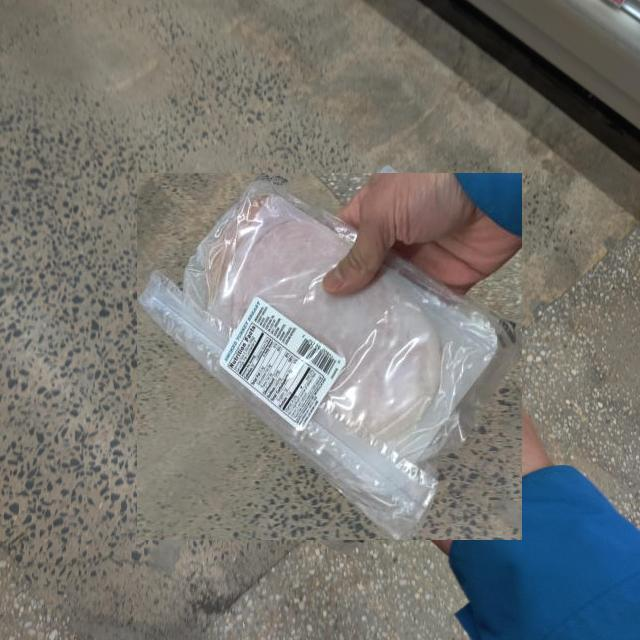Meat: (138, 172, 522, 540)
